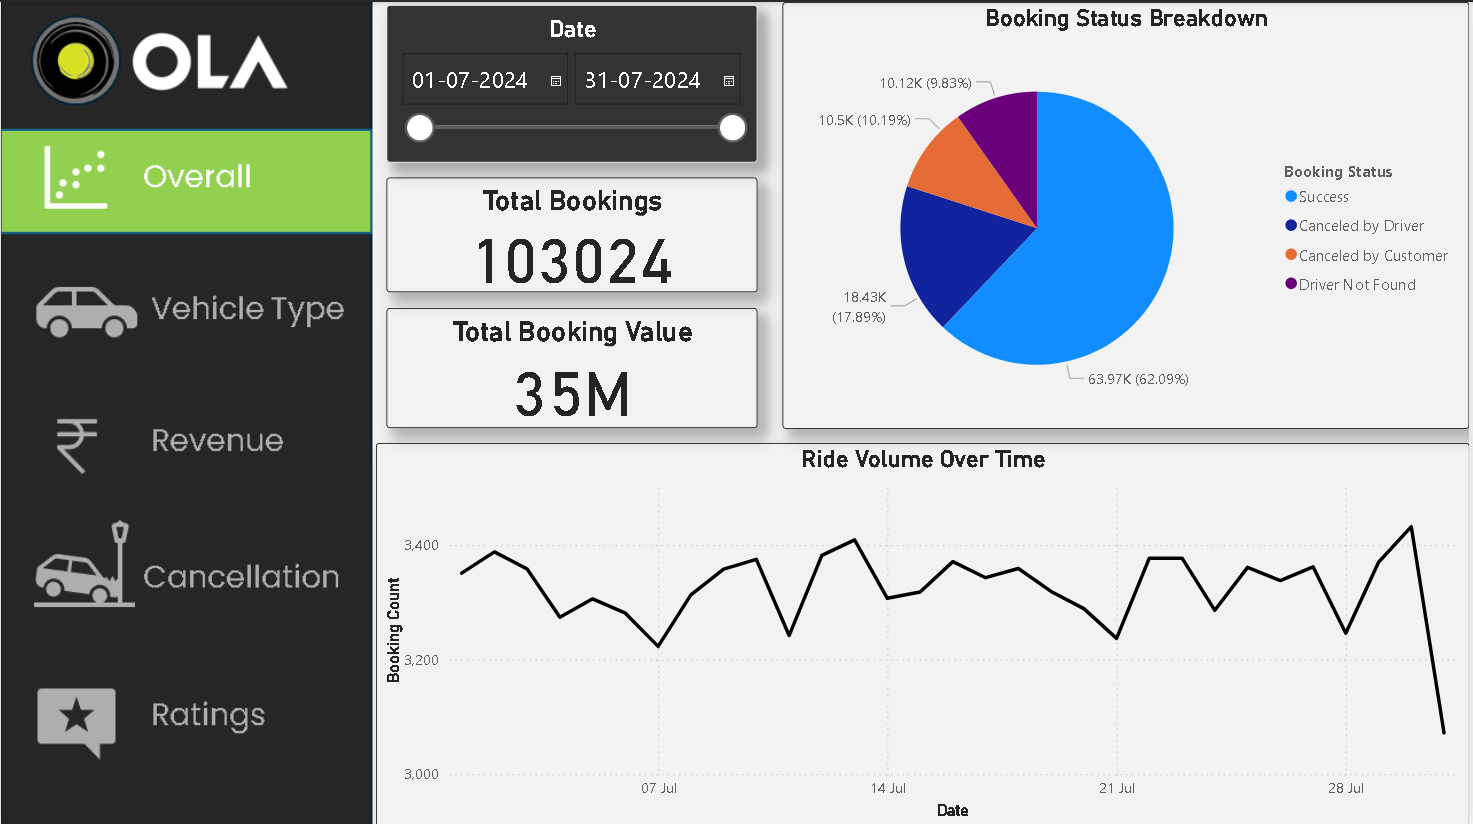

The page's visual inventory and layout, read from the dashboard file:
{"tool":"powerbi","page":{"name":"Overall","canvas":[1280,720],"ordinal":0},"visuals":[{"type":"actionButton","box":[0,224.5,324.3,86.6],"z":0},{"type":"actionButton","box":[1.5,341.9,324.3,86.6],"z":1000},{"type":"actionButton","box":[1.5,444.6,324.3,92.4],"z":2000},{"type":"actionButton","box":[0,582.6,324.3,86.6],"z":3000},{"type":"lineChart","title":"Ride Volume Over Time","fields":{"Y":["CountNonNull(Bookings-100000-Rows.booking_id)"],"Category":["Bookings-100000-Rows.booking_date"]},"box":[326.7,385,953.3,335],"z":4000},{"type":"pieChart","title":"Booking Status Breakdown","fields":{"Category":["Bookings-100000-Rows.booking_status"],"Y":["CountNonNull(Bookings-100000-Rows.booking_status)"]},"box":[681.7,0,598.3,371.7],"z":5000},{"type":"card","title":"Total Booking Value","fields":{"Values":["Sum(Bookings-100000-Rows.booking_value)"]},"box":[335.9,267.2,323.4,104.7],"z":6000},{"type":"slicer","title":"Date","fields":{"Values":["Bookings-100000-Rows.booking_date"]},"box":[335.9,3.1,323.4,137.5],"z":7000},{"type":"card","title":"Total Bookings","fields":{"Values":["CountNonNull(Bookings-100000-Rows.booking_id)"]},"box":[335.9,153.1,323.4,100],"z":8000}]}

Visuals, with their boxes in screenshot pixels (x1, y1, x2, y2), scaled from the page's 1280x720 canvas onto the 1473x824 screenshot:
actionButton: left=0, top=257, right=373, bottom=356
actionButton: left=2, top=391, right=375, bottom=490
actionButton: left=2, top=509, right=375, bottom=615
actionButton: left=0, top=667, right=373, bottom=766
"Ride Volume Over Time" lineChart: left=376, top=441, right=1472, bottom=823
"Booking Status Breakdown" pieChart: left=784, top=0, right=1472, bottom=425
"Total Booking Value" card: left=387, top=306, right=759, bottom=426
"Date" slicer: left=387, top=4, right=759, bottom=161
"Total Bookings" card: left=387, top=175, right=759, bottom=290
